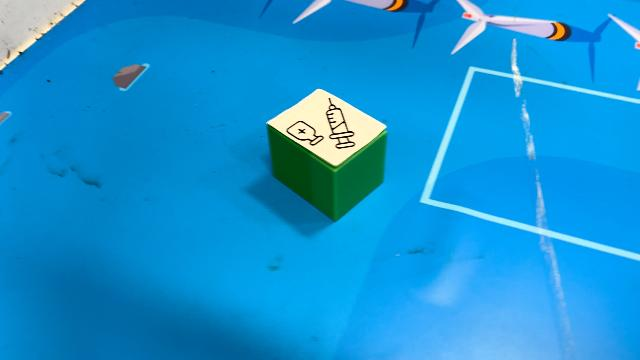syringe: (267, 89, 387, 221)
